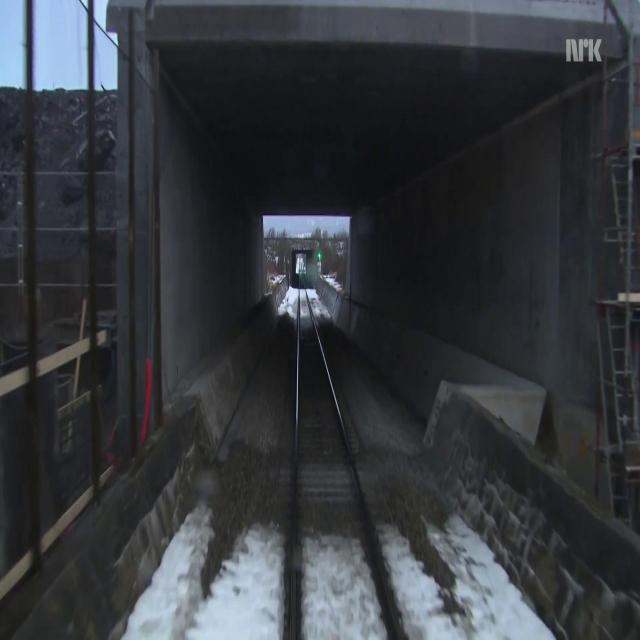rail-track: (295, 259, 399, 639)
